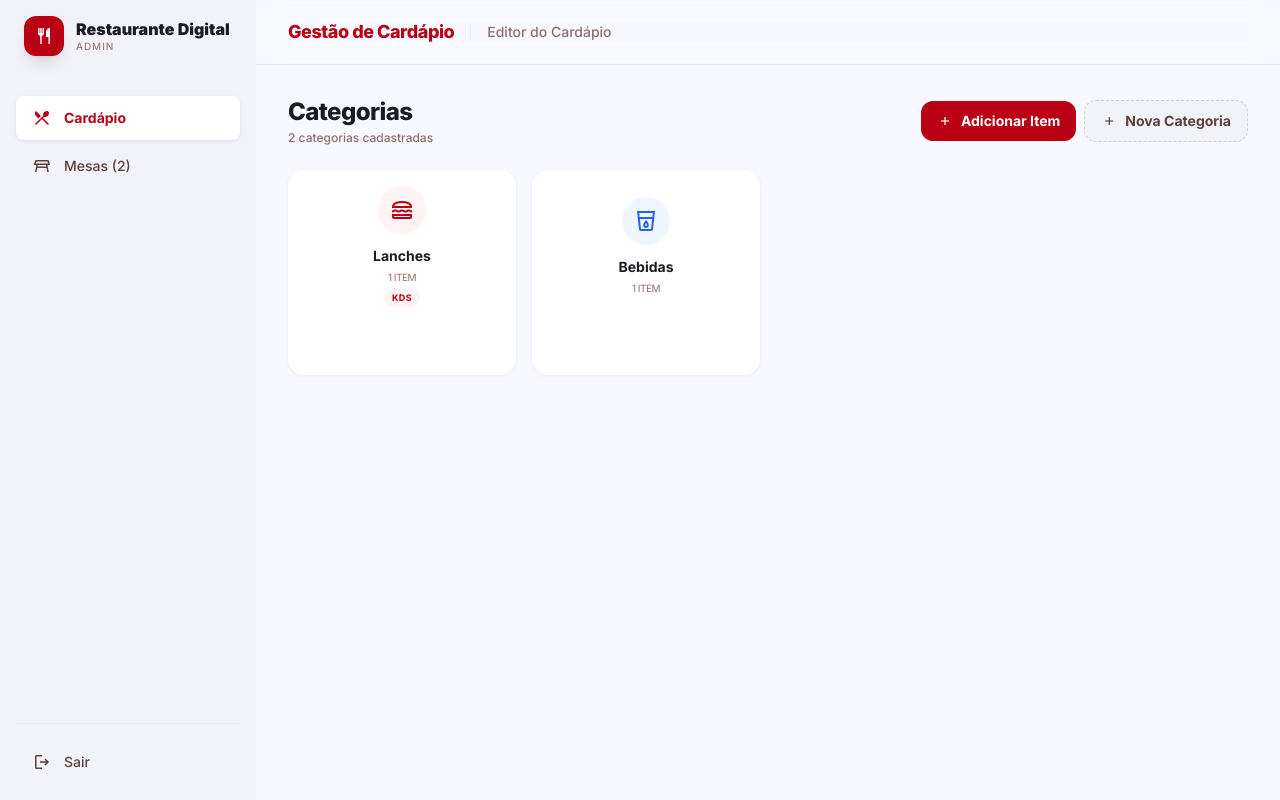
Test: AdminPage › Modal de categoria › fecha modal ao clicar no botão fechar (×)
Click the text "Lanches": [402, 256] box [373, 246, 431, 266]
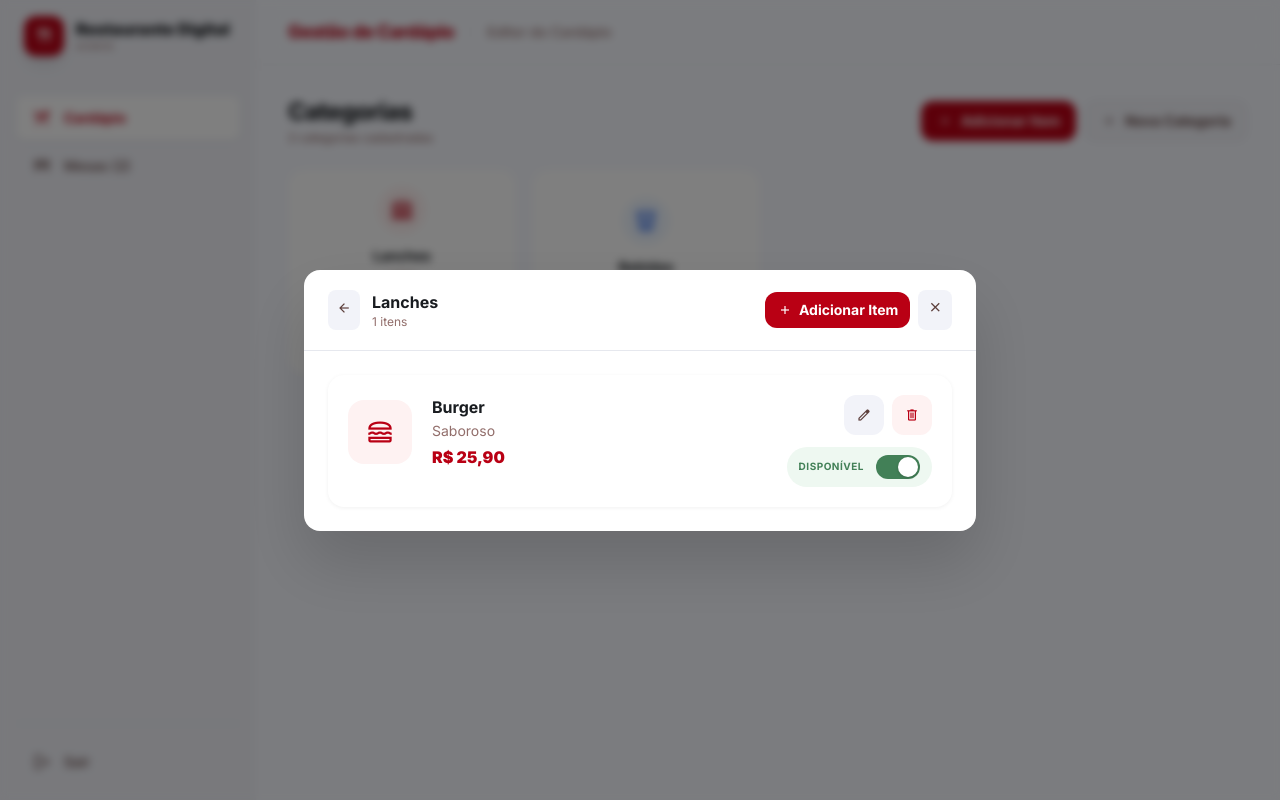
Now the heading "Burger" is shown, box [432, 396, 485, 416]
Click the 2nd button named "close": [935, 310] box [918, 290, 952, 330]
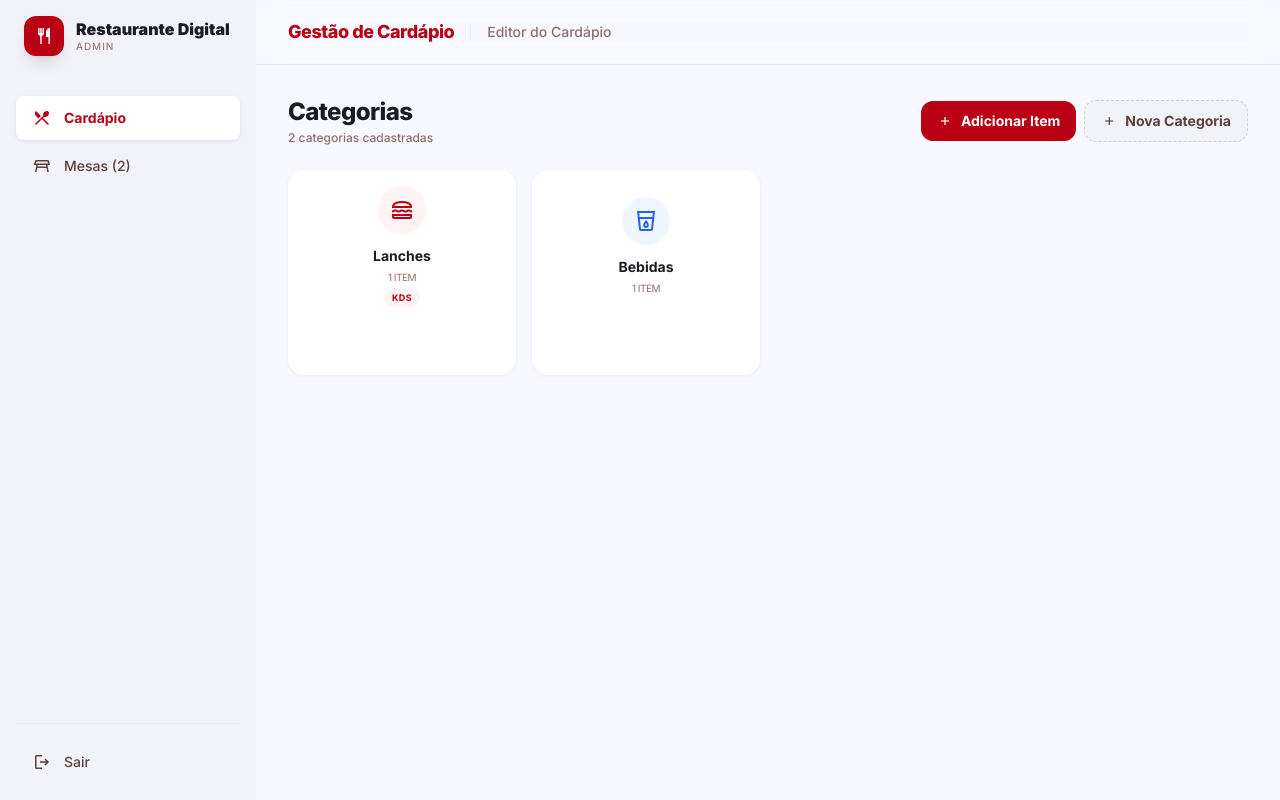
Now the heading "Burger" is gone
